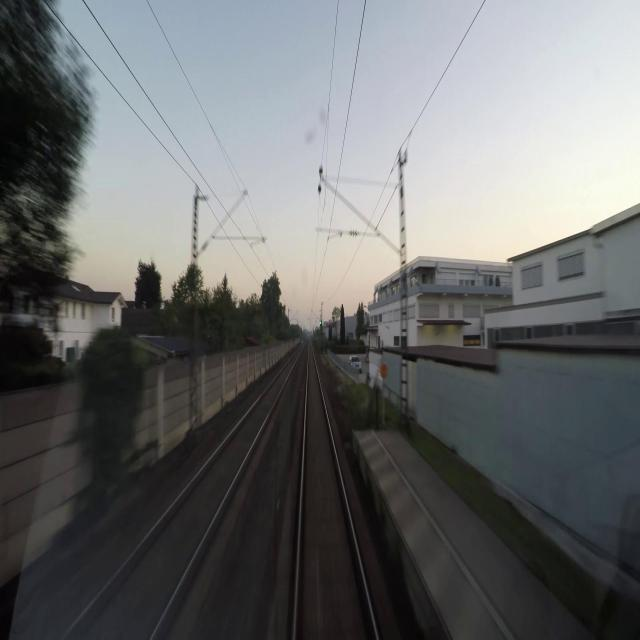rail-track: (66, 354, 297, 639), (297, 347, 375, 639)
